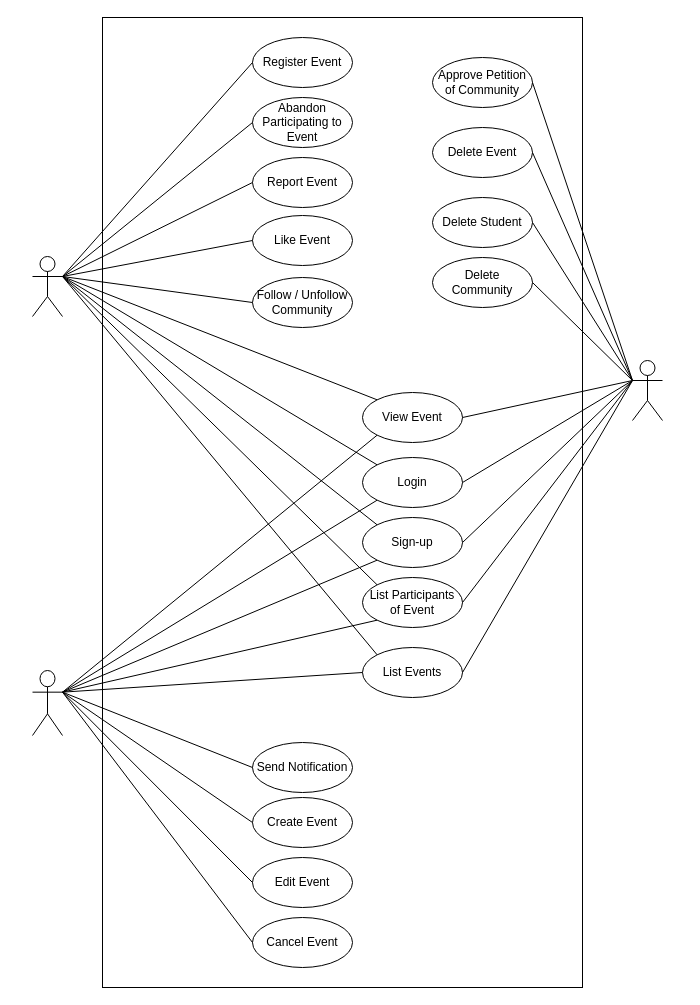
Some shapes in this 700 by 1005 pixel diagram are drawn without their labels. The centre of each missing label's shape, as x and y in pixels:
Administrator Account: pixel 647 390
Community Account: pixel 47 703
Student Account: pixel 47 286
